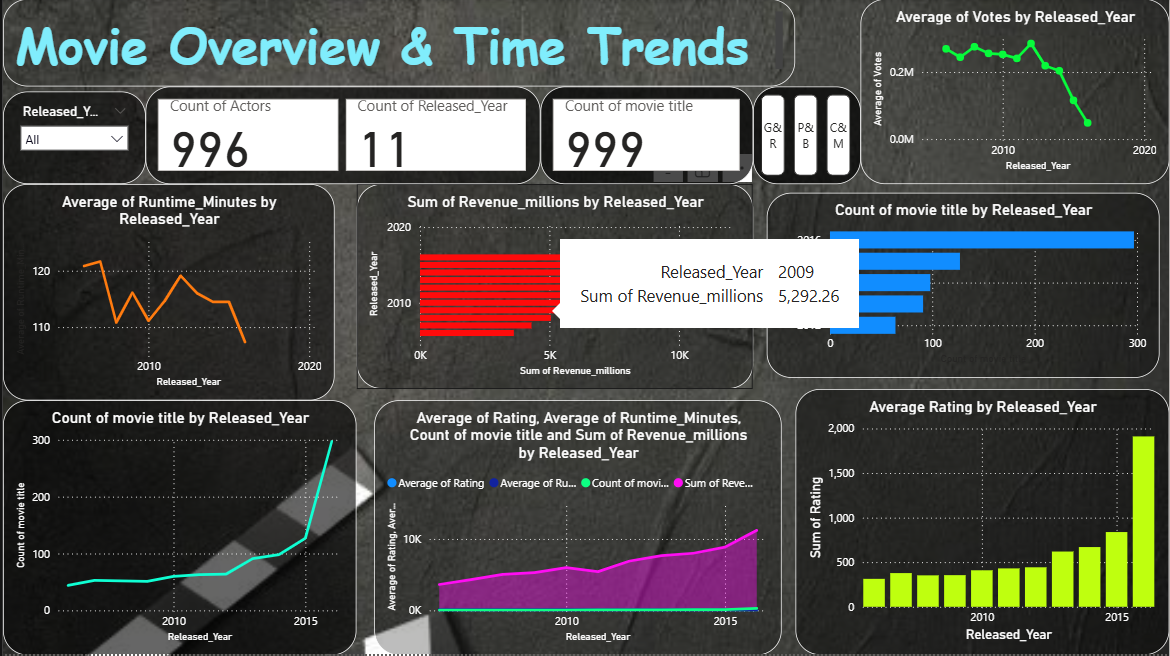

The dashboard page shown, as its layout file describes it:
{"tool":"powerbi","page":{"name":"OT","canvas":[1280,720],"ordinal":0},"visuals":[{"type":"lineChart","fields":{"Category":["IMDB-Movie-Data.Released_Year"],"Y":["Count(IMDB-Movie-Data.Title)"]},"box":[0,440.5,388.3,279.9],"z":0},{"type":"barChart","fields":{"Y":["Sum(IMDB-Movie-Data.Revenue_millions)"],"Category":["IMDB-Movie-Data.Released_Year"]},"box":[388.3,203.1,435,225],"z":1000},{"type":"columnChart","title":"Average Rating by Released_Year","fields":{"Y":["Sum(IMDB-Movie-Data.Rating)"],"Category":["IMDB-Movie-Data.Released_Year"]},"box":[870,428.1,410.3,292.3],"z":2000},{"type":"lineChart","fields":{"Y":["Avg(IMDB-Movie-Data.Runtime_Minutes)"],"Category":["IMDB-Movie-Data.Released_Year"]},"box":[0,203.1,363.6,237.4],"z":3000},{"type":"barChart","fields":{"Y":["CountNonNull(IMDB-Movie-Data.movie title)"],"Category":["IMDB-Movie-Data.Released_Year"]},"box":[838.4,212.7,430.9,203.1],"z":4000},{"type":"lineChart","fields":{"Y":["Avg(IMDB-Movie-Data.Votes)"],"Category":["IMDB-Movie-Data.Released_Year"]},"box":[941.3,0,338.9,203.1],"z":5000},{"type":"lineChart","fields":{"Category":["IMDB-Movie-Data.Released_Year"],"Y":["Avg(IMDB-Movie-Data.Rating)","Avg(IMDB-Movie-Data.Runtime_Minutes)","CountNonNull(IMDB-Movie-Data.movie title)","Sum(IMDB-Movie-Data.Revenue_millions)"]},"box":[407.5,440.5,447.3,279.9],"z":6000},{"type":"slicer","fields":{"Values":["IMDB-Movie-Data.Released_Year"]},"box":[0,101.5,156.4,101.5],"z":7000},{"type":"cardVisual","fields":{"Data":["Count(IMDB-Movie-Data.movie title)"]},"box":[590.1,96.1,233.3,107],"z":8000},{"type":"cardVisual","fields":{"Data":["Count(IMDB-Movie-Data.Actors)","Count(IMDB-Movie-Data.Released_Year)"]},"box":[156.4,96.1,433.6,107],"z":9000},{"type":"textbox","box":[0,0,870,96.1],"z":10000},{"type":"pageNavigator","box":[823.3,96.1,118,107],"z":10001}]}

Visuals, with their boxes in screenshot pixels (x1, y1, x2, y2), scaled from the page's 1280x720 canvas onto the 1170x656 screenshot:
lineChart - IMDB-Movie-Data.Released_Year x Count(IMDB-Movie-Data.Title): bbox(0, 401, 355, 655)
barChart - Sum(IMDB-Movie-Data.Revenue_millions) x IMDB-Movie-Data.Released_Year: bbox(355, 185, 753, 390)
"Average Rating by Released_Year" columnChart: bbox(795, 390, 1169, 655)
lineChart - Avg(IMDB-Movie-Data.Runtime_Minutes) x IMDB-Movie-Data.Released_Year: bbox(0, 185, 332, 401)
barChart - CountNonNull(IMDB-Movie-Data.movie title) x IMDB-Movie-Data.Released_Year: bbox(766, 194, 1160, 379)
lineChart - Avg(IMDB-Movie-Data.Votes) x IMDB-Movie-Data.Released_Year: bbox(860, 0, 1169, 185)
lineChart - IMDB-Movie-Data.Released_Year x Avg(IMDB-Movie-Data.Rating): bbox(372, 401, 781, 655)
slicer - IMDB-Movie-Data.Released_Year: bbox(0, 92, 143, 185)
cardVisual - Count(IMDB-Movie-Data.movie title): bbox(539, 88, 753, 185)
cardVisual - Count(IMDB-Movie-Data.Actors) x Count(IMDB-Movie-Data.Released_Year): bbox(143, 88, 539, 185)
textbox: bbox(0, 0, 795, 88)
pageNavigator: bbox(753, 88, 860, 185)
